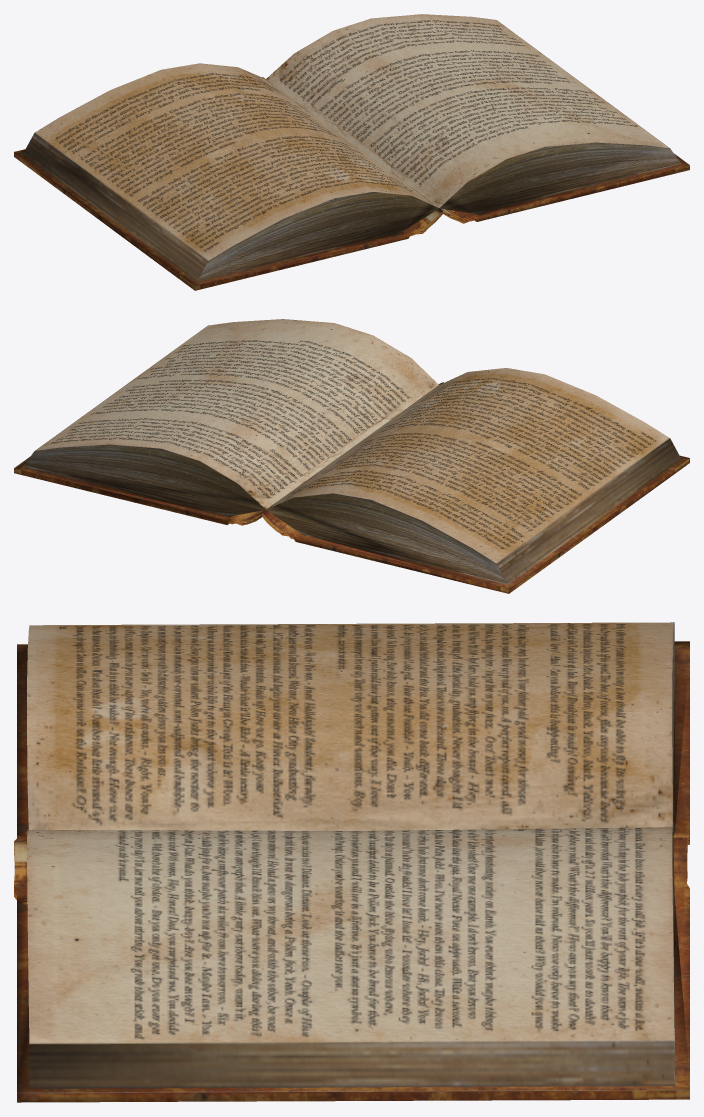
File: diary.glb
3 views of the same model, one above another, from view 1: azimuth 30°, elevation 25°; view 2: azimuth 150°, elevation 25°; view 3: azimuth 270°, elevation 25° (orthographic). The views are drawn at different scales.
Parts seen in each view (by area): view 1: polySurface4; view 2: polySurface4; view 3: polySurface4.
Part boxes in pixels (x1,y1,x2,y2): polySurface4: [14, 14, 689, 290]; polySurface4: [14, 319, 689, 593]; polySurface4: [14, 622, 689, 1102].
Bounding box in the file's own units: 13.37 × 1.48 × 8.51.
Materials: 1 (1 with a texture image).
